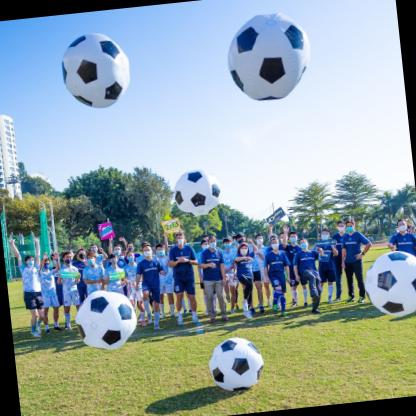ball: (223, 9, 316, 107), (56, 27, 134, 111), (355, 244, 416, 319), (74, 284, 140, 353), (209, 334, 265, 394), (172, 166, 222, 216)
